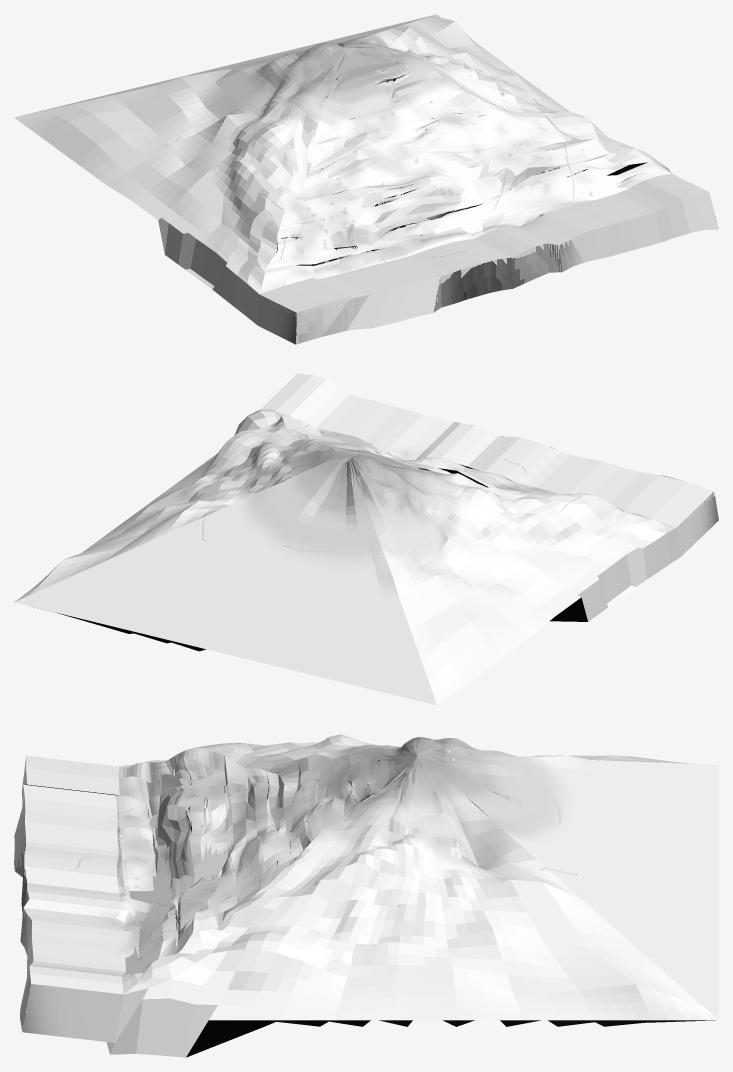
File: Frosty Mountain Map.glb
3 renders of one model, top to bottom at view 1: azimuth 30°, elevation 25°; view 2: azimuth 150°, elevation 25°; view 3: azimuth 270°, elevation 25°, orthographic. The views are drawn at different scales.
Visible parts, largest first — view 1: Cone; view 2: Cone; view 3: Cone.
Part boxes in pixels (x1=…): Cone: x1=14, y1=14, x2=718, y2=344; Cone: x1=14, y1=373, x2=718, y2=705; Cone: x1=14, y1=734, x2=718, y2=1057.
Size of the model in its own units: 1154 by 416 by 1319.
Materials: 1 (1 with a texture image).
